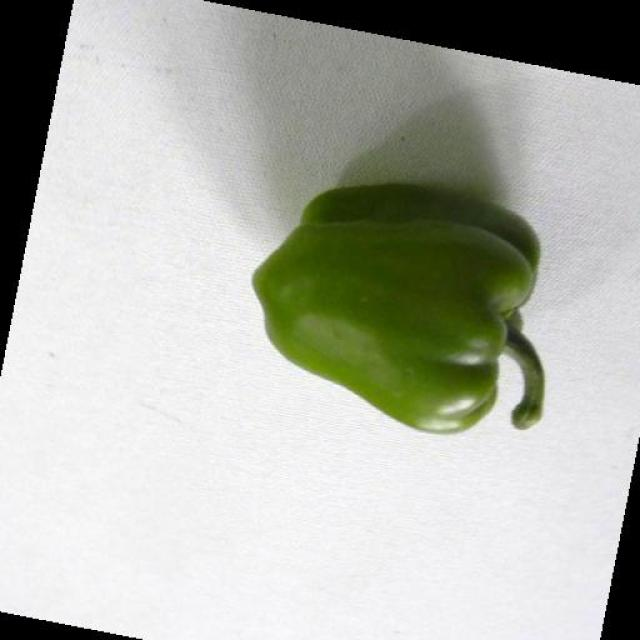Fresh_Capsicum: (298, 128, 555, 445)
